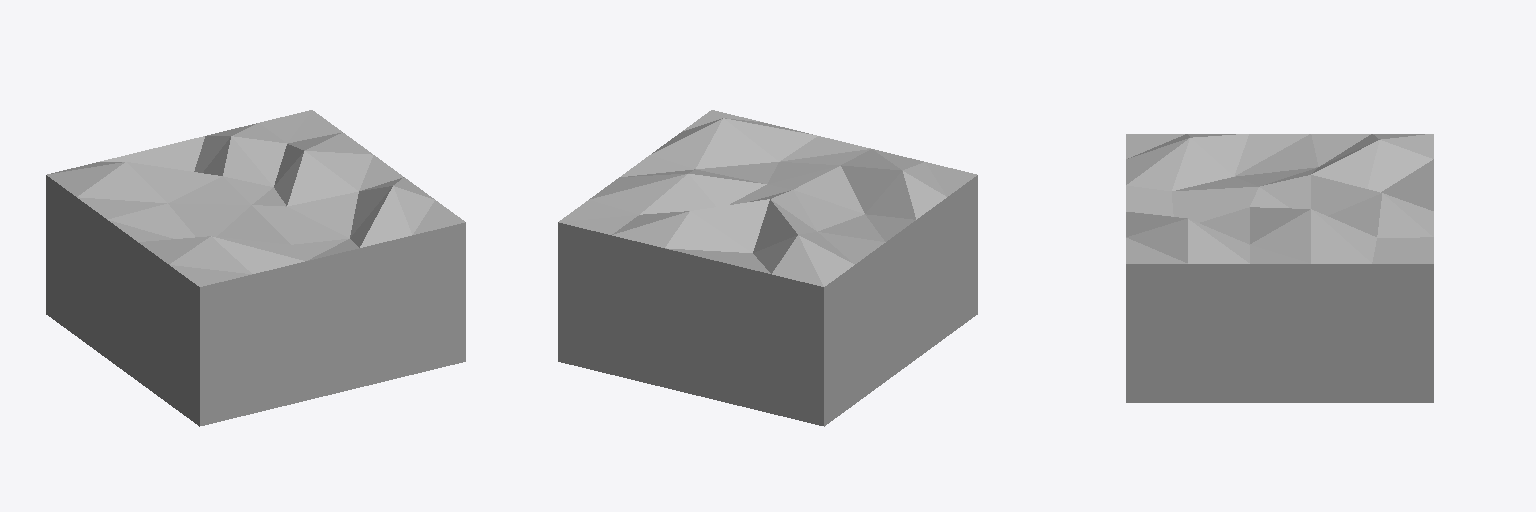
File: BA_Frog_01.obj
The picture shows the model from 3 angles: view 1: azimuth 30°, elevation 25°; view 2: azimuth 150°, elevation 25°; view 3: azimuth 270°, elevation 25°; orthographic projection.
Parts seen in each view (by area): view 1: Box001; view 2: Box001; view 3: Box001.
Boxes of the visible parts, <box> form: Box001: <box>46,110,465,426</box>; Box001: <box>558,110,977,426</box>; Box001: <box>1126,134,1433,402</box>.
Size of the model in its own units: 100 by 58.76 by 100.